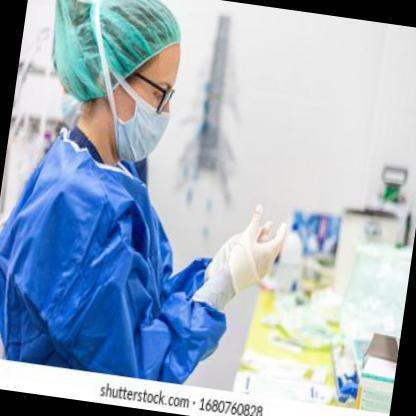Gloves: (189, 196, 290, 318)
